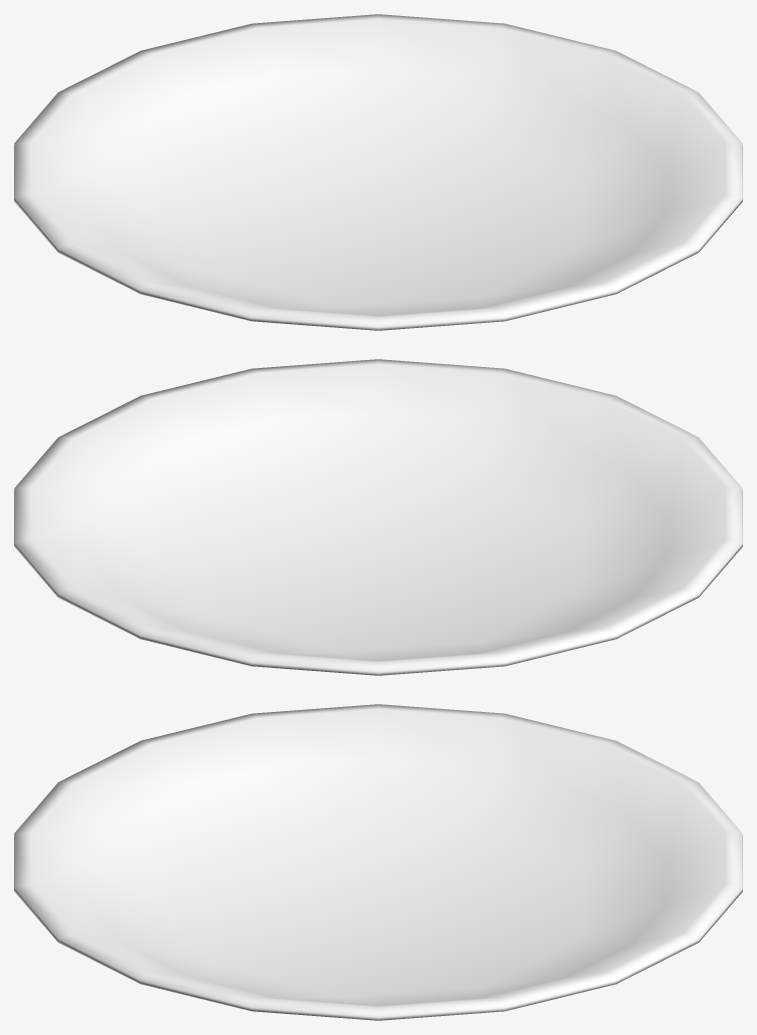
The model's file is Kitchen_Plate.FBX.
3 renders of one model, top to bottom at view 1: azimuth 30°, elevation 25°; view 2: azimuth 150°, elevation 25°; view 3: azimuth 270°, elevation 25°, orthographic.
Visible parts, largest first — view 1: Kitchen_plate; view 2: Kitchen_plate; view 3: Kitchen_plate.
Part boxes in pixels (x1,y1,x2,y2): Kitchen_plate: [14, 14, 742, 330]; Kitchen_plate: [14, 359, 742, 675]; Kitchen_plate: [14, 704, 742, 1020].
Size of the model in its own units: 0.3449 by 0.0281 by 0.3397.
